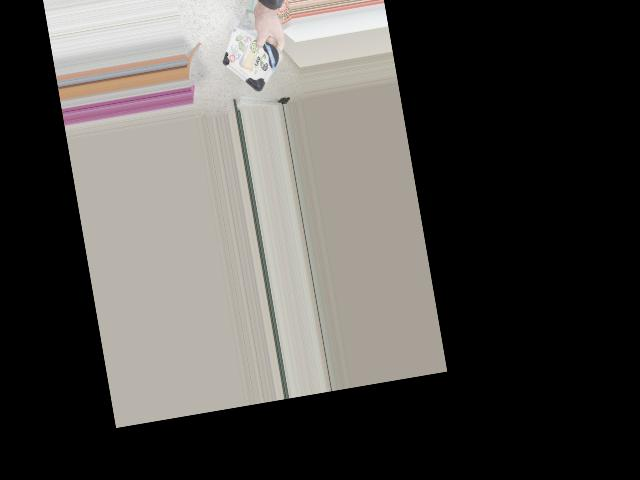cheese: (215, 27, 299, 88)
